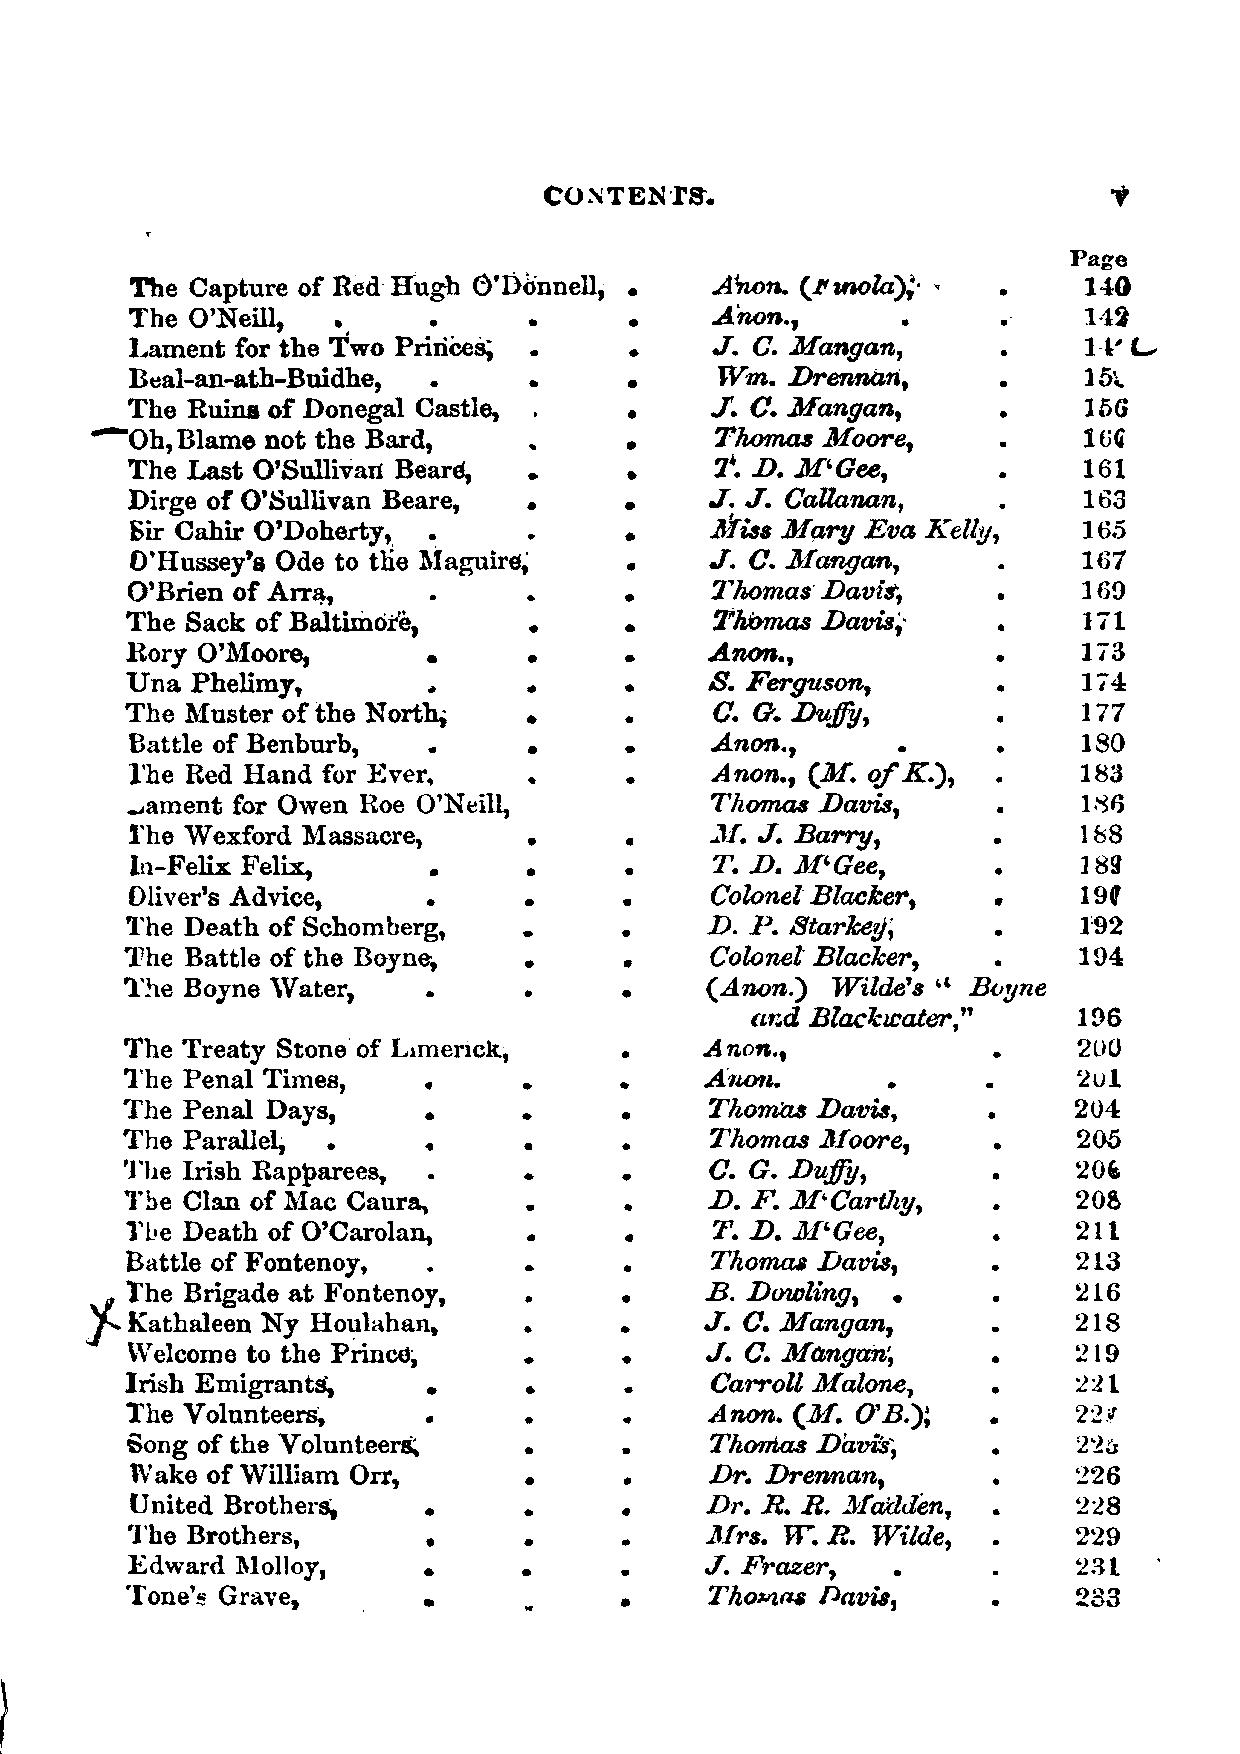TOC_chapter: (118, 264, 616, 301), (127, 546, 529, 578), (122, 786, 511, 819), (126, 331, 495, 365), (121, 1032, 513, 1062), (127, 391, 502, 421), (119, 452, 479, 482), (123, 911, 450, 943), (127, 484, 459, 515), (127, 423, 435, 455), (123, 820, 427, 852), (119, 1188, 429, 1219), (123, 1338, 417, 1370), (119, 699, 447, 727), (123, 1217, 435, 1247), (119, 946, 439, 974), (122, 1157, 389, 1190), (126, 1308, 440, 1337), (123, 1282, 448, 1308), (127, 1460, 401, 1491), (123, 760, 435, 786), (123, 608, 417, 636), (127, 1432, 421, 1459), (123, 976, 358, 1009), (123, 362, 391, 391), (129, 515, 389, 544), (118, 1094, 335, 1126), (123, 1251, 369, 1279), (121, 1066, 349, 1095), (127, 729, 366, 757), (122, 1369, 335, 1400), (125, 882, 327, 911), (126, 1492, 338, 1520), (123, 1584, 301, 1614), (125, 1554, 325, 1581), (118, 301, 291, 331), (123, 668, 297, 699), (122, 637, 311, 666), (127, 1401, 326, 1428), (126, 578, 331, 604), (126, 854, 317, 880), (125, 1523, 301, 1551), (123, 1127, 287, 1151)
TOC_pagenumber: (1084, 331, 1158, 360), (1072, 1490, 1125, 1520), (1078, 666, 1127, 697), (1074, 1459, 1123, 1490), (1068, 1369, 1122, 1397), (1071, 1338, 1125, 1365), (1072, 1092, 1123, 1121), (1070, 1398, 1121, 1427), (1072, 1551, 1123, 1580), (1072, 1585, 1123, 1613), (1080, 395, 1135, 420), (1076, 942, 1127, 969), (1072, 1278, 1123, 1304), (1079, 727, 1127, 756), (1078, 910, 1123, 939), (1079, 605, 1126, 633), (1078, 636, 1125, 664), (1072, 1307, 1121, 1334), (1075, 1520, 1123, 1547), (1078, 849, 1123, 878), (1079, 548, 1129, 573), (1076, 1062, 1123, 1088), (1082, 362, 1126, 391), (1074, 1126, 1122, 1151), (1074, 1155, 1122, 1181), (1074, 1247, 1122, 1272), (1074, 1215, 1119, 1241), (1083, 271, 1130, 297), (1082, 577, 1129, 603), (1078, 760, 1125, 785), (1078, 1001, 1122, 1028), (1078, 518, 1129, 541), (1079, 790, 1126, 815), (1080, 425, 1126, 450), (1074, 1432, 1119, 1456), (1078, 1032, 1121, 1057), (1080, 487, 1127, 510), (1074, 1186, 1121, 1209), (1082, 701, 1127, 723), (1084, 305, 1129, 327), (1079, 823, 1123, 845), (1078, 882, 1119, 906), (1082, 458, 1126, 479)
chapter: (539, 178, 715, 212)
